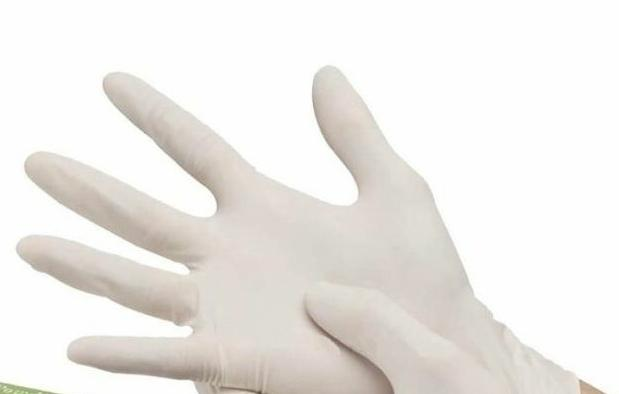gloves: (20, 63, 595, 394)
